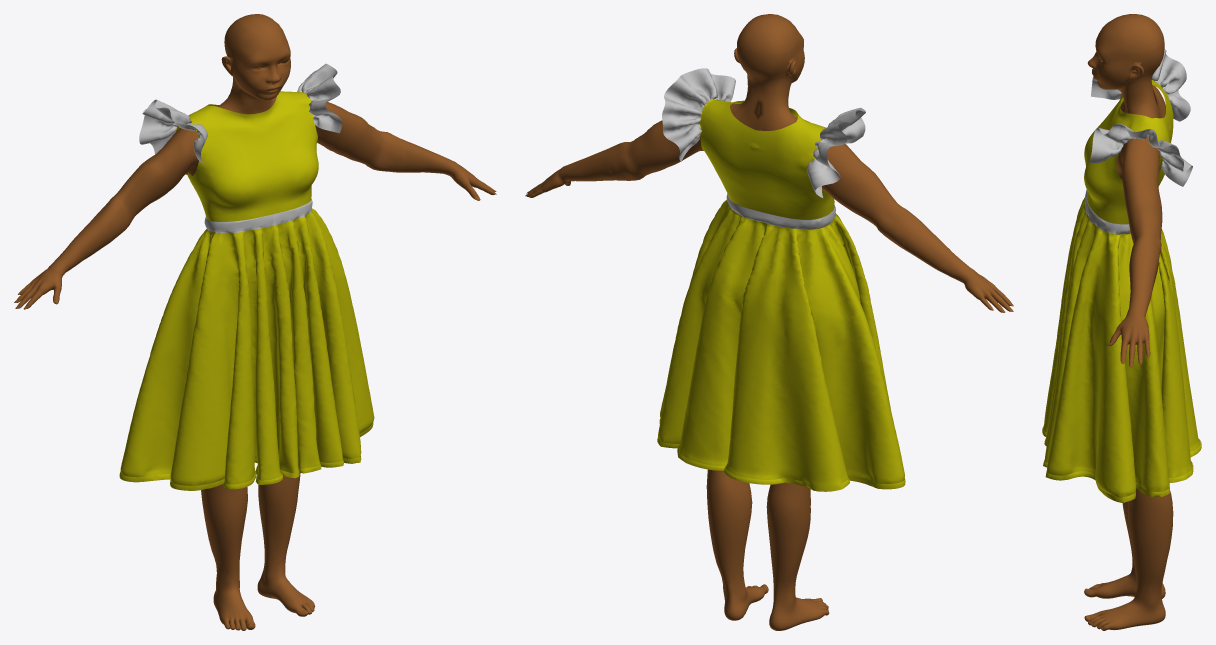
File: dress10.glb
3 views of the same model, side by side, from view 1: azimuth 30°, elevation 25°; view 2: azimuth 150°, elevation 25°; view 3: azimuth 270°, elevation 25° (orthographic).
Visible parts, largest first — view 1: PinkDrees#14 (OBJ), Body; view 2: PinkDrees#14 (OBJ), Body; view 3: PinkDrees#14 (OBJ), Body.
Boxes of the visible parts, <box> form: PinkDrees#14 (OBJ): <box>119,63,374,490</box>; Body: <box>16,14,496,630</box>; PinkDrees#14 (OBJ): <box>657,68,905,491</box>; Body: <box>526,14,1010,630</box>; PinkDrees#14 (OBJ): <box>1042,49,1201,502</box>; Body: <box>1084,14,1173,630</box>.
Size of the model in its own units: 1.58 by 1.85 by 0.451.
